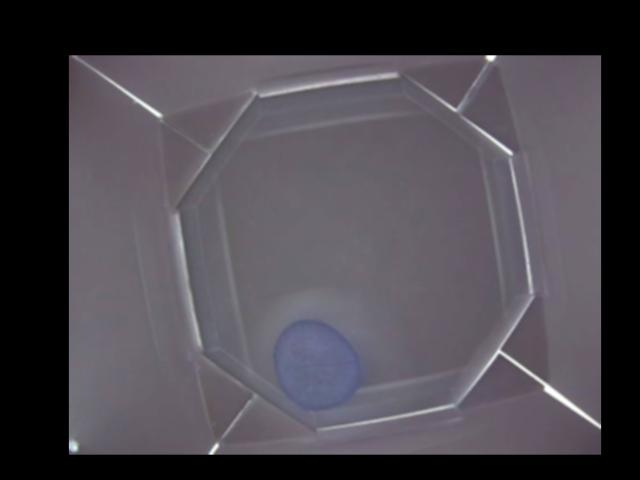Mooli: (273, 319, 362, 409)
